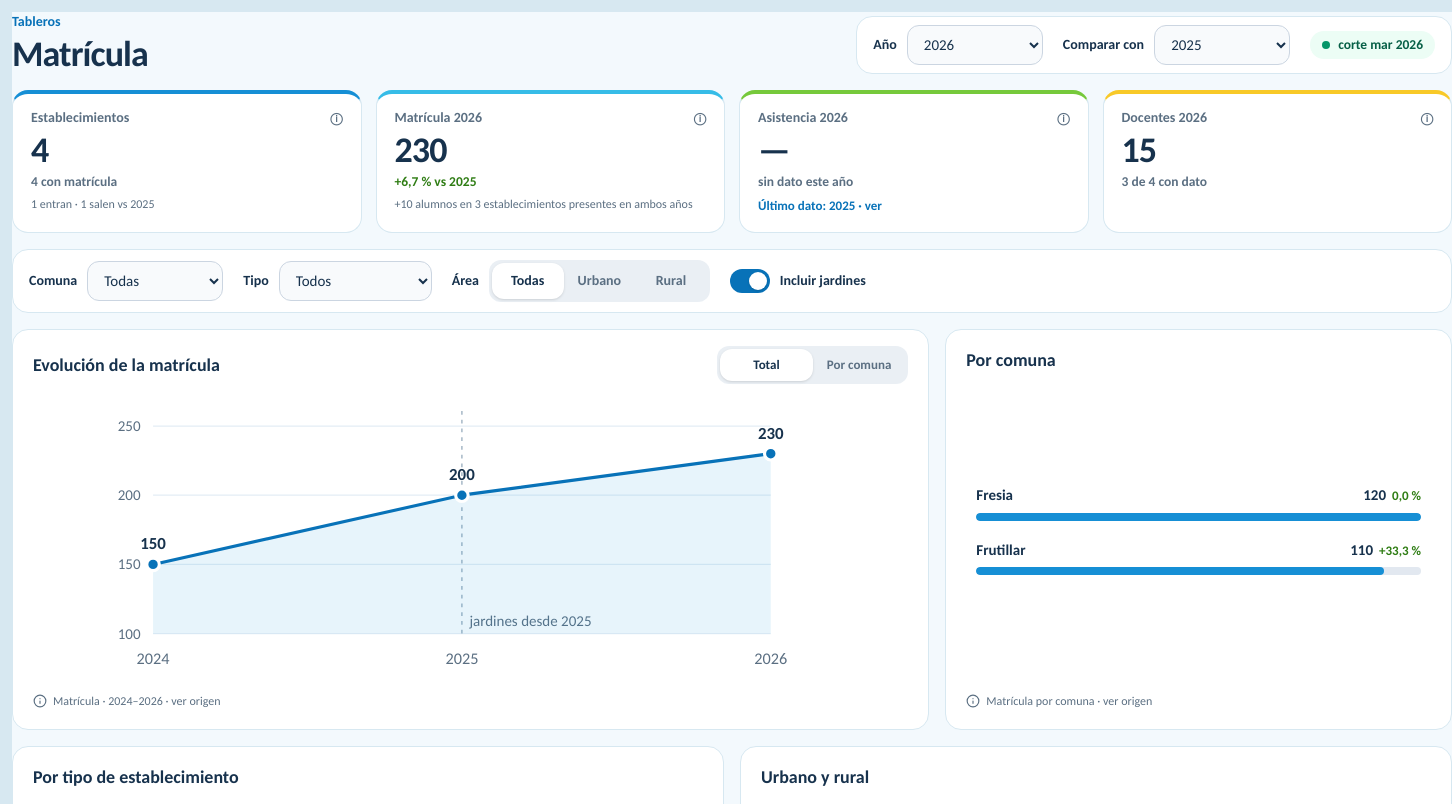
Test case: FE24: tablero de matrícula › FE24-D: el interruptor de jardines excluye ese tipo
Expected: the heading "Matrícula" is shown, [12,34,148,74]
Click the switch labelled "Incluir jardines" at [798, 281], box [730,261,866,301]
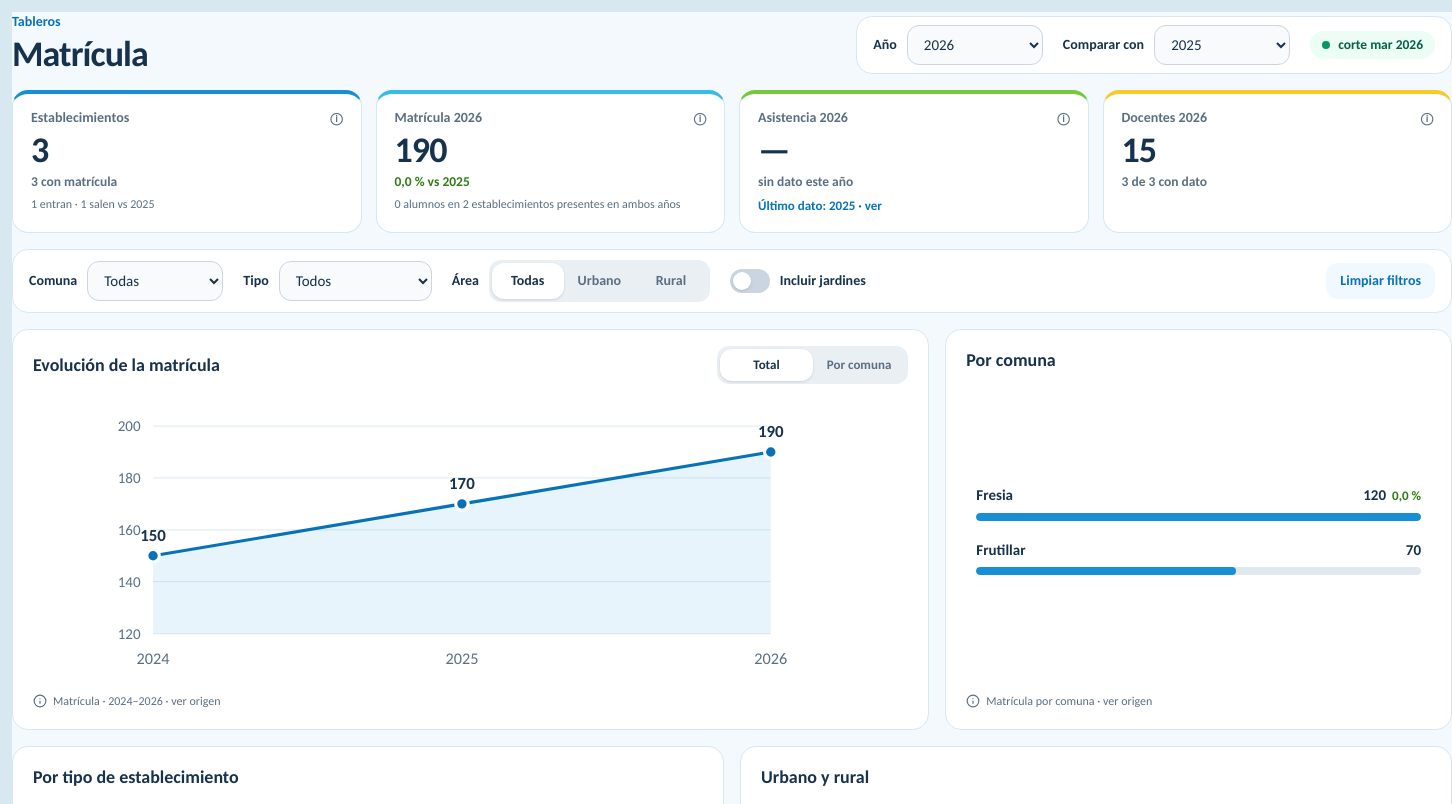
Now the text "190" is shown, box [394,128,446,172]
